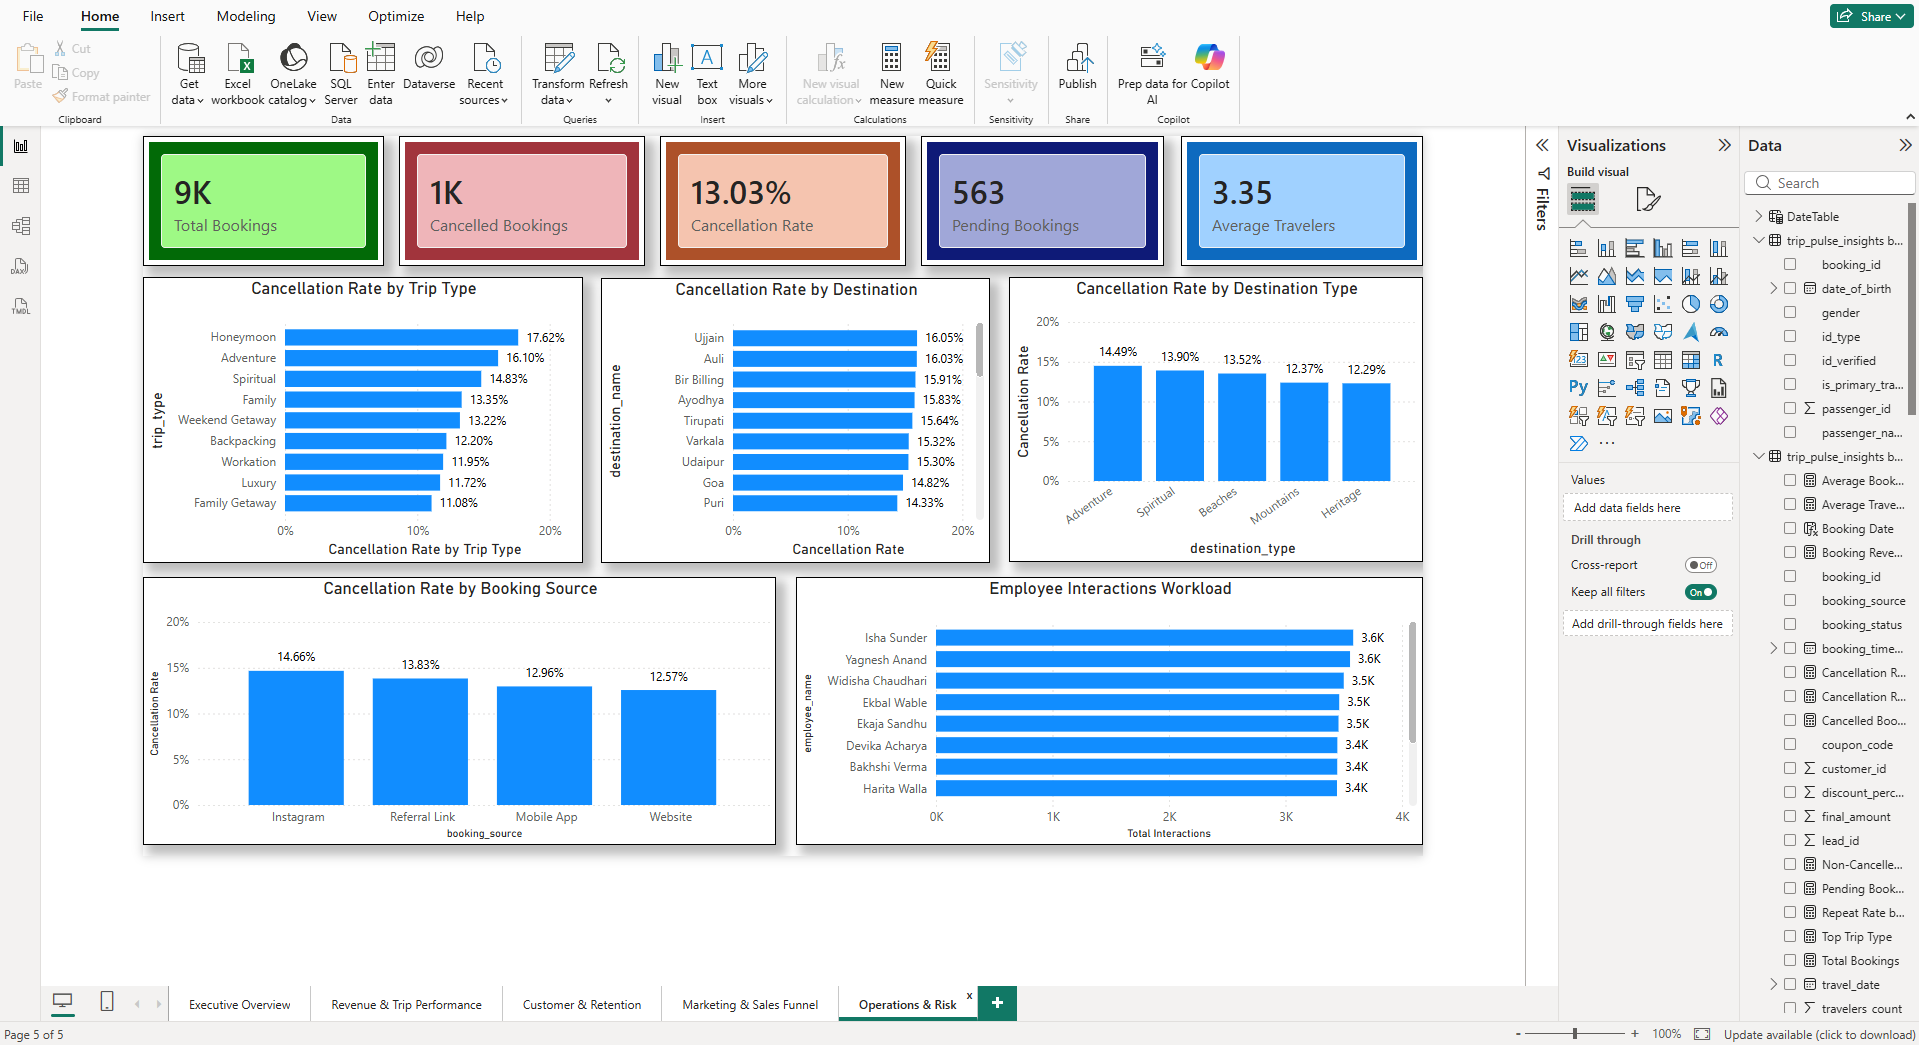

The dashboard page shown, as its layout file describes it:
{"tool":"powerbi","page":{"name":"Operations & Risk","canvas":[1280,720],"ordinal":4},"visuals":[{"type":"cardVisual","fields":{"Data":["trip_pulse_insights bookings.Total Bookings"]},"box":[0,0,241,130],"z":0},{"type":"cardVisual","fields":{"Data":["trip_pulse_insights bookings.Cancelled Bookings"]},"box":[256,0,246,130],"z":1000},{"type":"cardVisual","fields":{"Data":["trip_pulse_insights bookings.Cancellation Rate"]},"box":[517,0,246,130],"z":2000},{"type":"cardVisual","fields":{"Data":["trip_pulse_insights bookings.Pending Bookings"]},"box":[778,0,243,130],"z":3000},{"type":"cardVisual","fields":{"Data":["trip_pulse_insights bookings.Average Travelers"]},"box":[1038,0,242,130],"z":4000},{"type":"clusteredBarChart","title":"Cancellation Rate by Trip Type","fields":{"Category":["trip_pulse_insights trips.trip_type"],"Y":["trip_pulse_insights bookings.Cancellation Rate by Trip Type"]},"box":[0,141.4,440,285.7],"z":5000},{"type":"clusteredBarChart","title":"Cancellation Rate by Destination","fields":{"Category":["trip_pulse_insights destinations.destination_name"],"Y":["trip_pulse_insights bookings.Cancellation Rate"]},"box":[458,142,389,285],"z":6000},{"type":"clusteredColumnChart","title":"Cancellation Rate by Destination Type","fields":{"Category":["trip_pulse_insights destinations.destination_type"],"Y":["trip_pulse_insights bookings.Cancellation Rate"]},"box":[865.7,141.4,414.3,284.3],"z":7000},{"type":"clusteredColumnChart","title":"Cancellation Rate by Booking Source","fields":{"Category":["trip_pulse_insights bookings.booking_source"],"Y":["trip_pulse_insights bookings.Cancellation Rate"]},"box":[0,441.4,632.9,267.1],"z":8000},{"type":"clusteredBarChart","title":"Employee Interactions Workload","fields":{"Y":["trip_pulse_insights lead_interactions.Total Interactions"],"Category":["trip_pulse_insights employees.employee_name"]},"box":[652.9,441.4,627.1,267.1],"z":9000}]}

Visuals, with their boxes on the page's 1280x720 design canvas (x1, y1, x2, y2). These are canvas units, not pixel positions in the 1919x1045 screenshot, which may show the page scaled, cropped or inside an application window:
cardVisual - trip_pulse_insights bookings.Total Bookings: 0:0:241:130
cardVisual - trip_pulse_insights bookings.Cancelled Bookings: 256:0:502:130
cardVisual - trip_pulse_insights bookings.Cancellation Rate: 517:0:763:130
cardVisual - trip_pulse_insights bookings.Pending Bookings: 778:0:1021:130
cardVisual - trip_pulse_insights bookings.Average Travelers: 1038:0:1280:130
"Cancellation Rate by Trip Type" clusteredBarChart: 0:141:440:427
"Cancellation Rate by Destination" clusteredBarChart: 458:142:847:427
"Cancellation Rate by Destination Type" clusteredColumnChart: 866:141:1280:426
"Cancellation Rate by Booking Source" clusteredColumnChart: 0:441:633:708
"Employee Interactions Workload" clusteredBarChart: 653:441:1280:708
